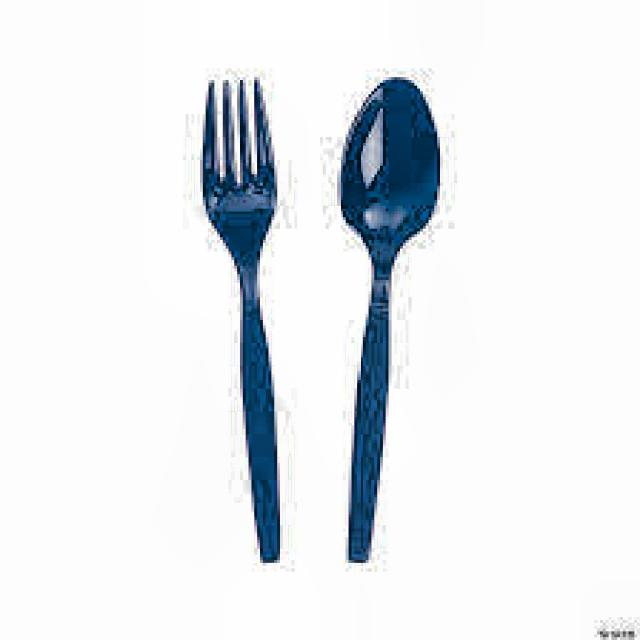plastic utensil: (340, 78, 440, 562), (204, 79, 276, 562)
